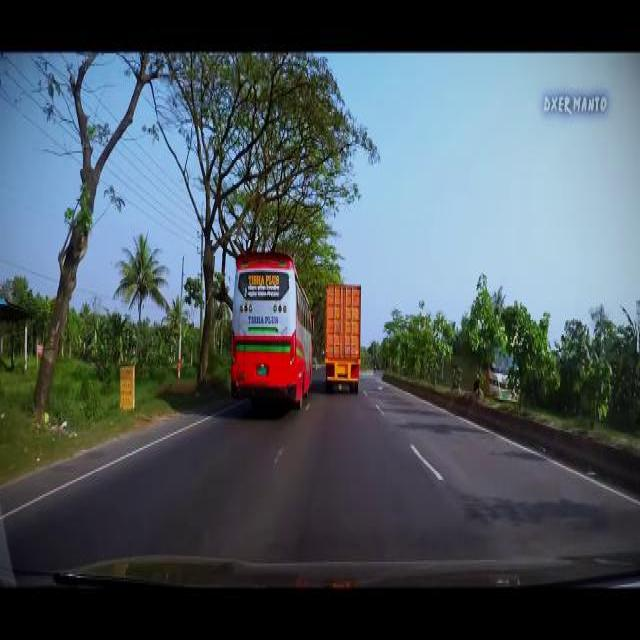bus: (228, 249, 314, 416), (482, 325, 520, 400)
truck: (322, 280, 362, 396)
